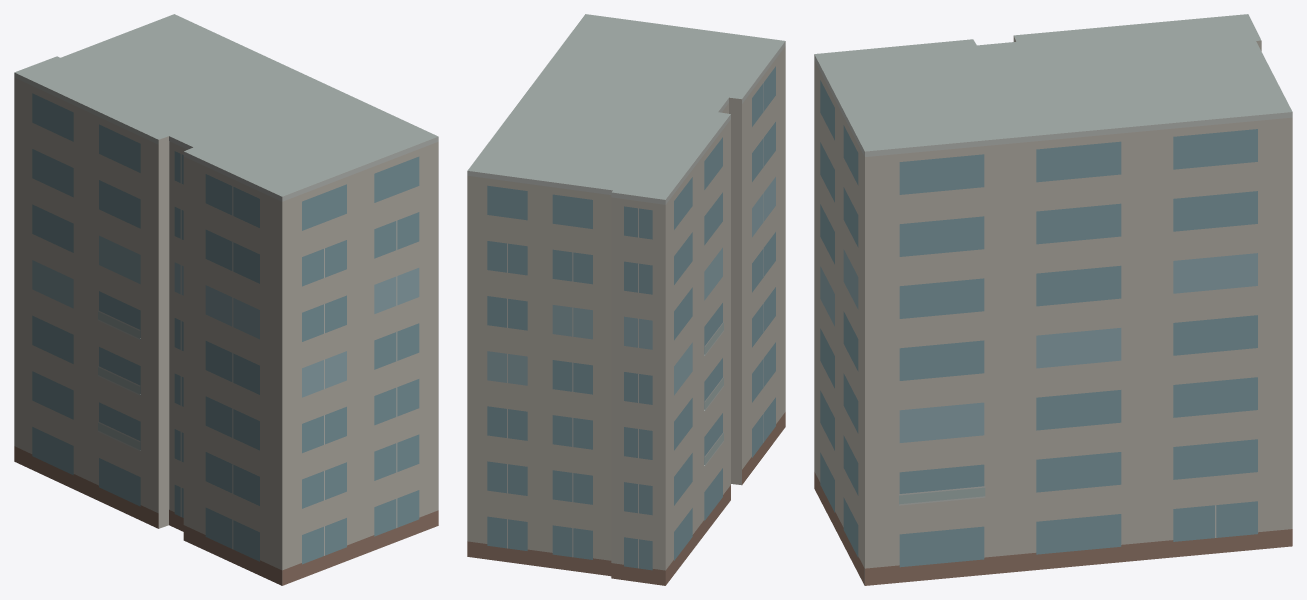
File: survey-upis-32705609.glb
3 views of the same model, side by side, from view 1: azimuth 30°, elevation 25°; view 2: azimuth 150°, elevation 25°; view 3: azimuth 270°, elevation 25° (orthographic). The views are drawn at different scales.
Parts seen in each view (by area): view 1: survey-upis-32705609.tmp; view 2: survey-upis-32705609.tmp; view 3: survey-upis-32705609.tmp.
Part boxes in pixels (x1,y1,x2,y2): survey-upis-32705609.tmp: (14, 14, 438, 585); survey-upis-32705609.tmp: (467, 14, 785, 585); survey-upis-32705609.tmp: (814, 14, 1292, 585).
Bounding box in the file's own units: 12.92 × 19 × 18.98.
